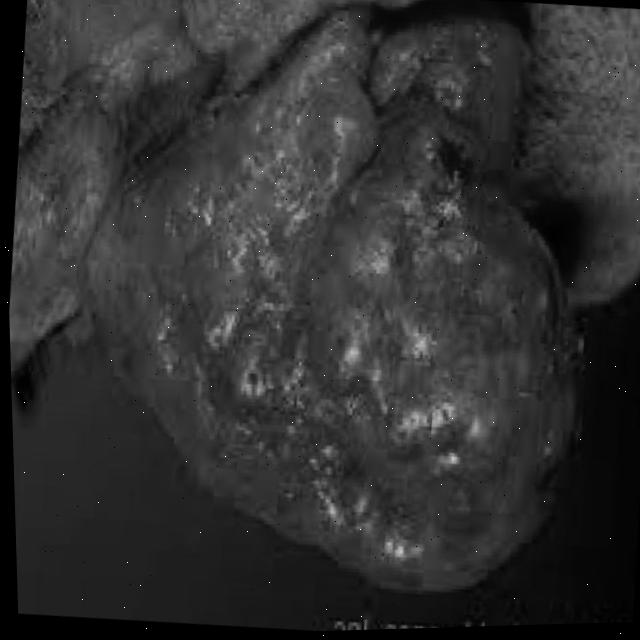Rosacea: (42, 0, 606, 600)
